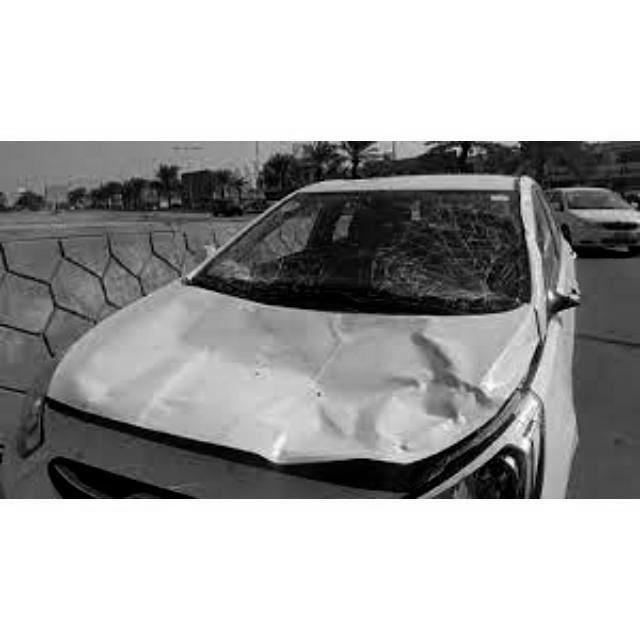Front-windscreen-damage: (206, 178, 521, 301)
bonnet-dent: (111, 297, 497, 465)
